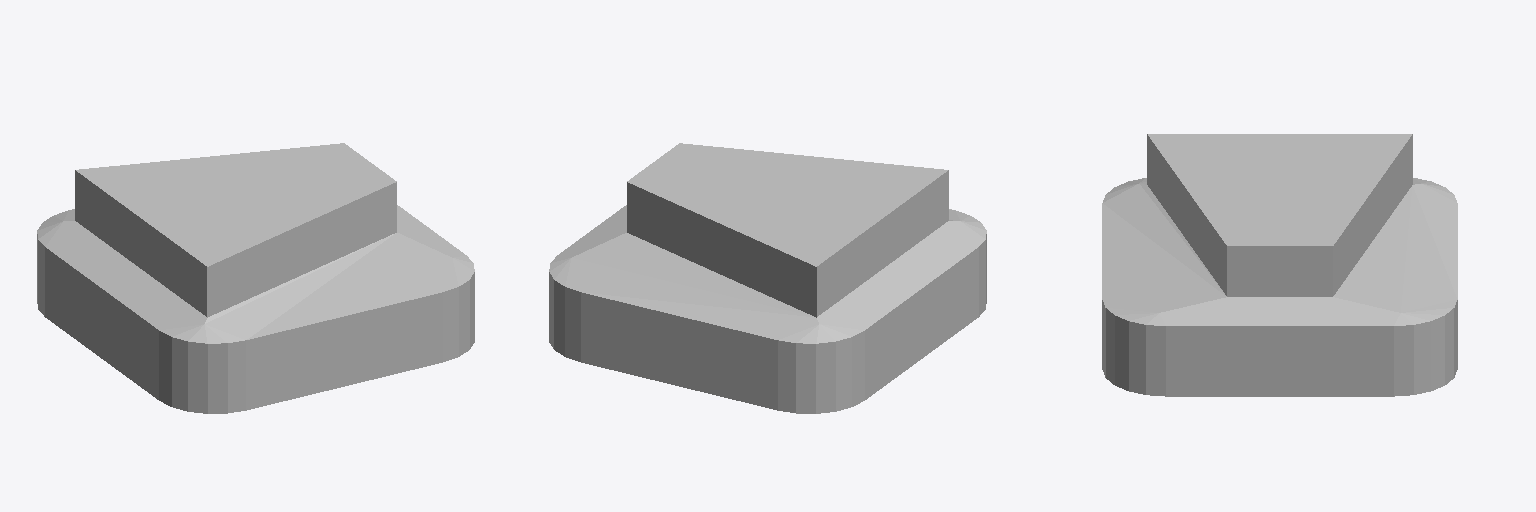
The model's file is ladder.obj.
The picture shows the model from 3 angles: view 1: azimuth 30°, elevation 25°; view 2: azimuth 150°, elevation 25°; view 3: azimuth 270°, elevation 25°; orthographic projection.
Parts seen in each view (by area): view 1: 立方体; view 2: 立方体; view 3: 立方体.
Boxes of the visible parts, x1=… form: 立方体: x1=37, y1=143, x2=474, y2=413; 立方体: x1=549, y1=143, x2=986, y2=413; 立方体: x1=1102, y1=134, x2=1457, y2=396.
Bounding box in the file's own units: 0.4 × 0.1629 × 0.4.